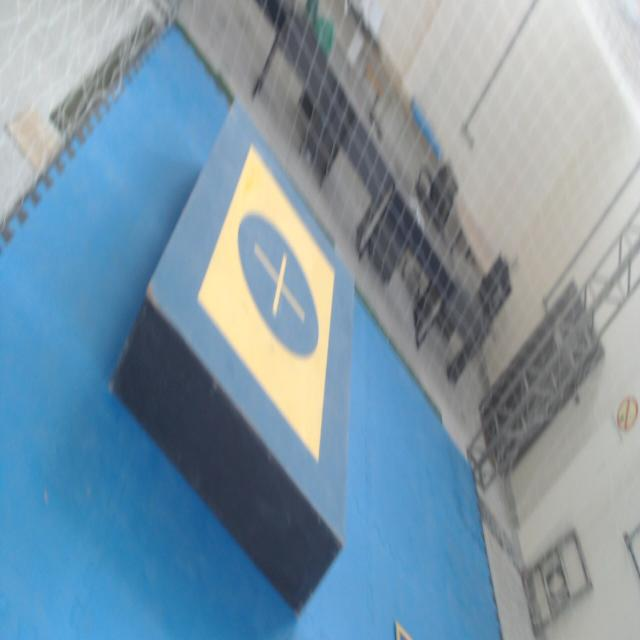base_inicio: (197, 147, 335, 460)
base_pouso: (396, 620, 411, 639)
